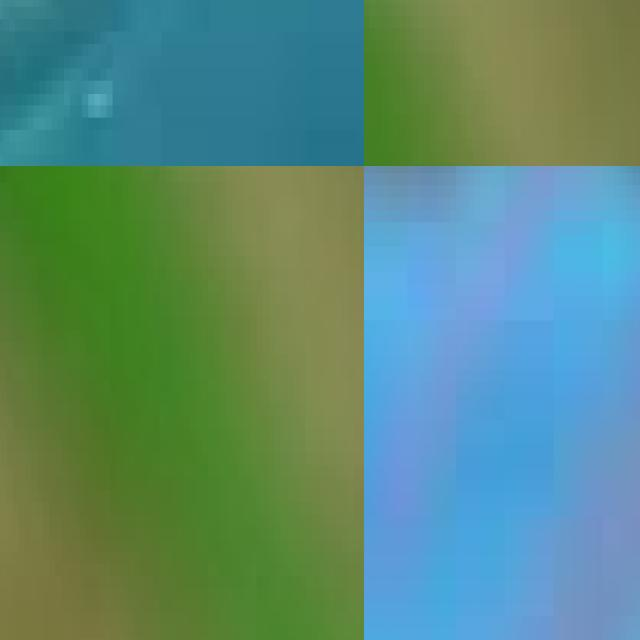fish: (0, 0, 364, 166)
